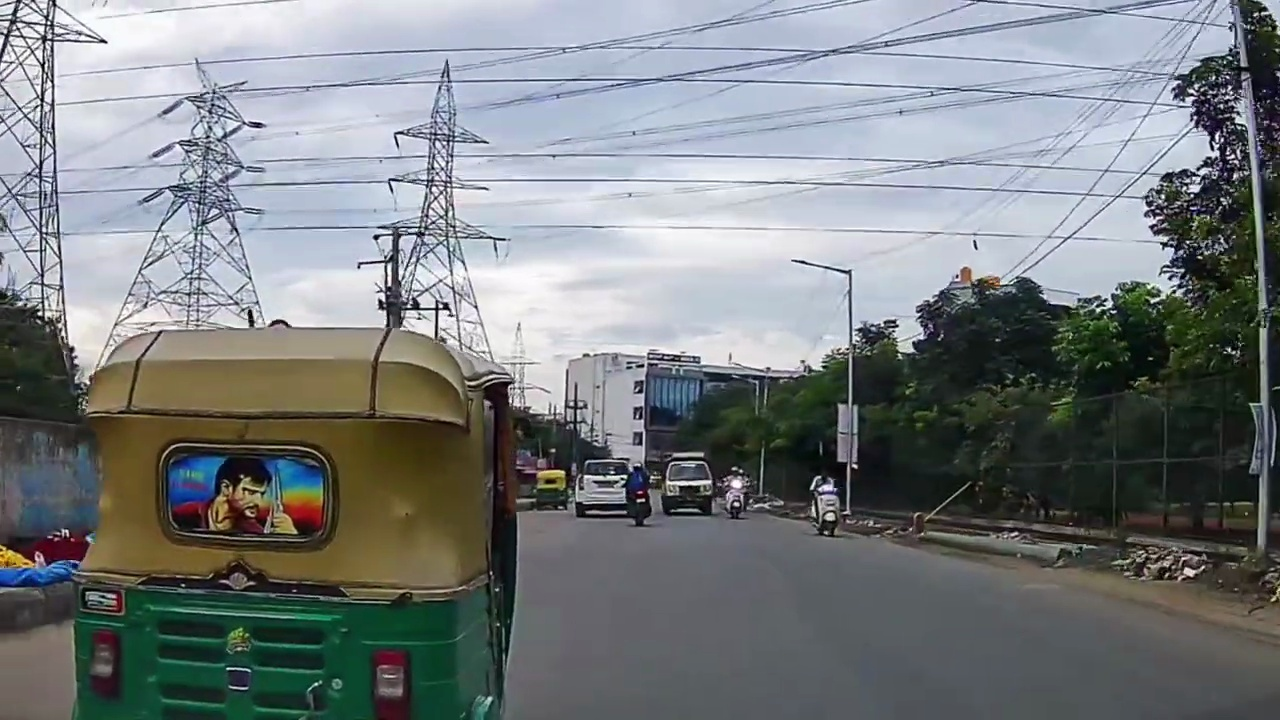garbage: (1122, 535, 1197, 587)
